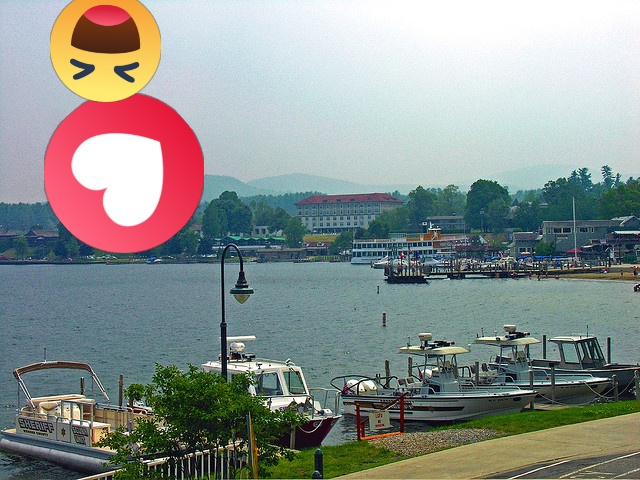haha: (50, 0, 161, 102)
love: (44, 93, 204, 253)
